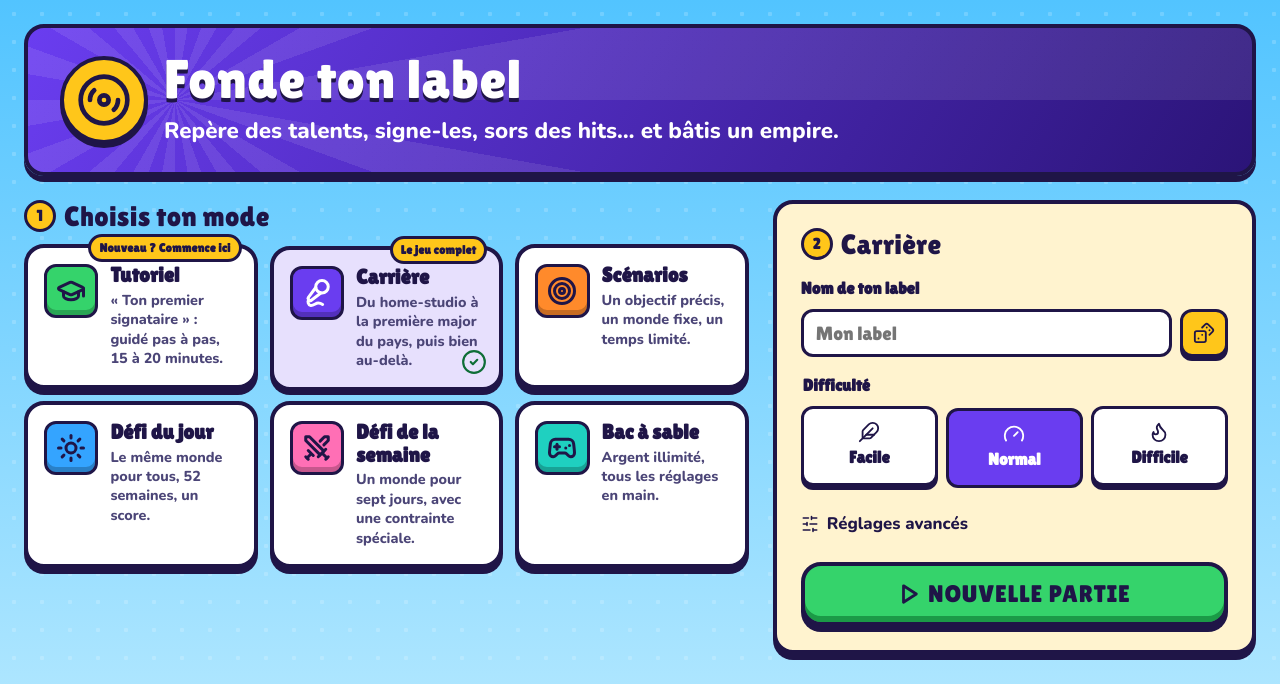
Scenario: premiers pas › apparaît au QG d’une nouvelle carrière et mène au repérage
Click the button "Nouvelle partie": (1014, 594) [801, 562, 1228, 626]
(page scrolled)
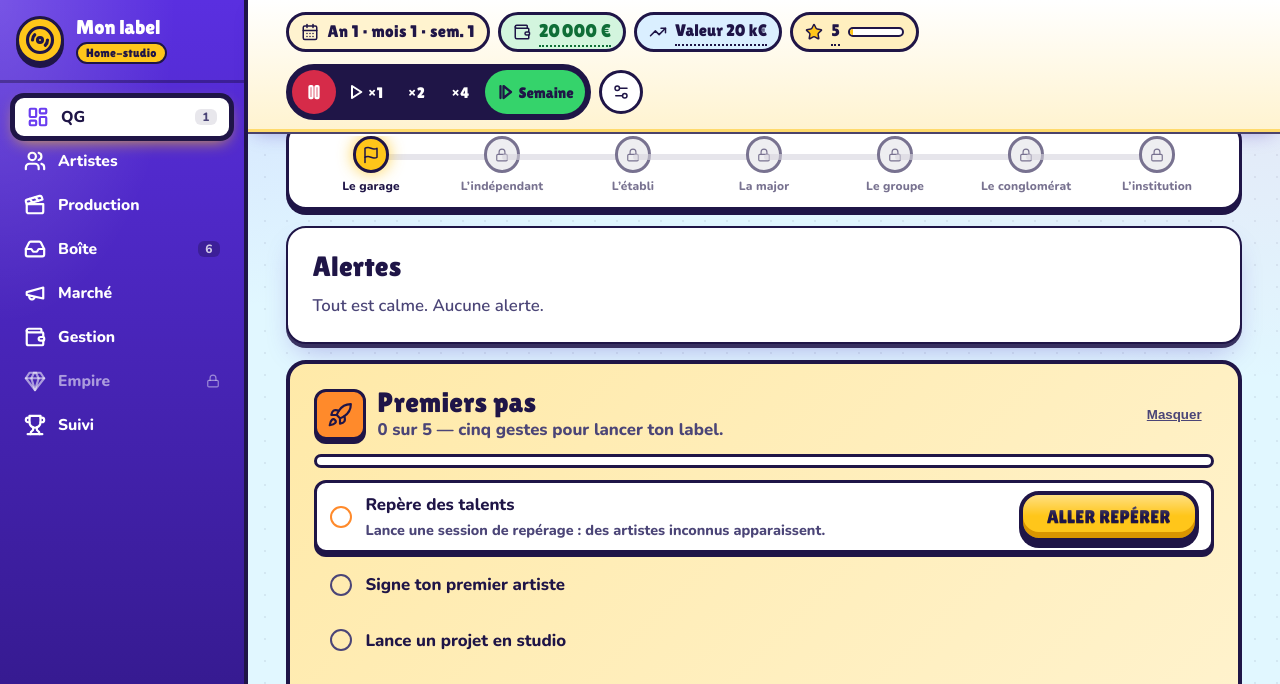
Now the heading "Premiers pas" is shown, box [378, 386, 536, 418]
Now the progress indicator named "Progression des premiers pas" is shown, box [314, 454, 1214, 468]
Click the button "Aller repérer": (1109, 517) [1019, 491, 1199, 542]
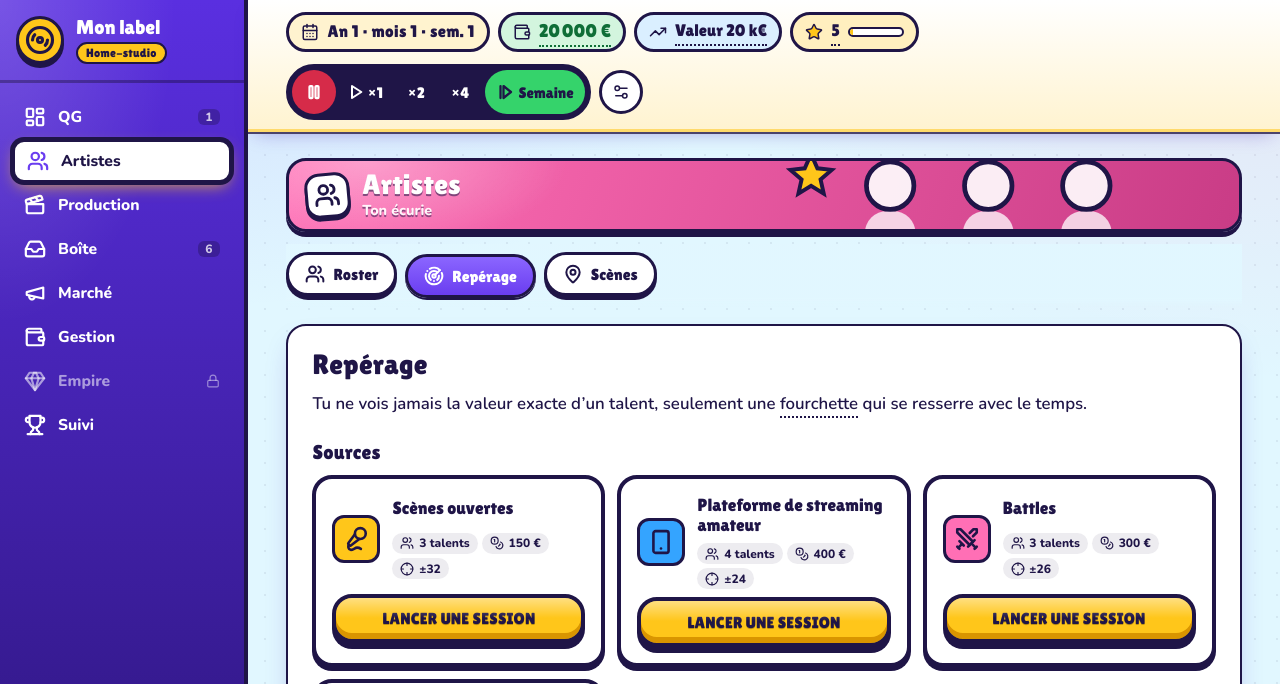
Now the heading "Repérage" is shown, box [312, 348, 428, 380]
